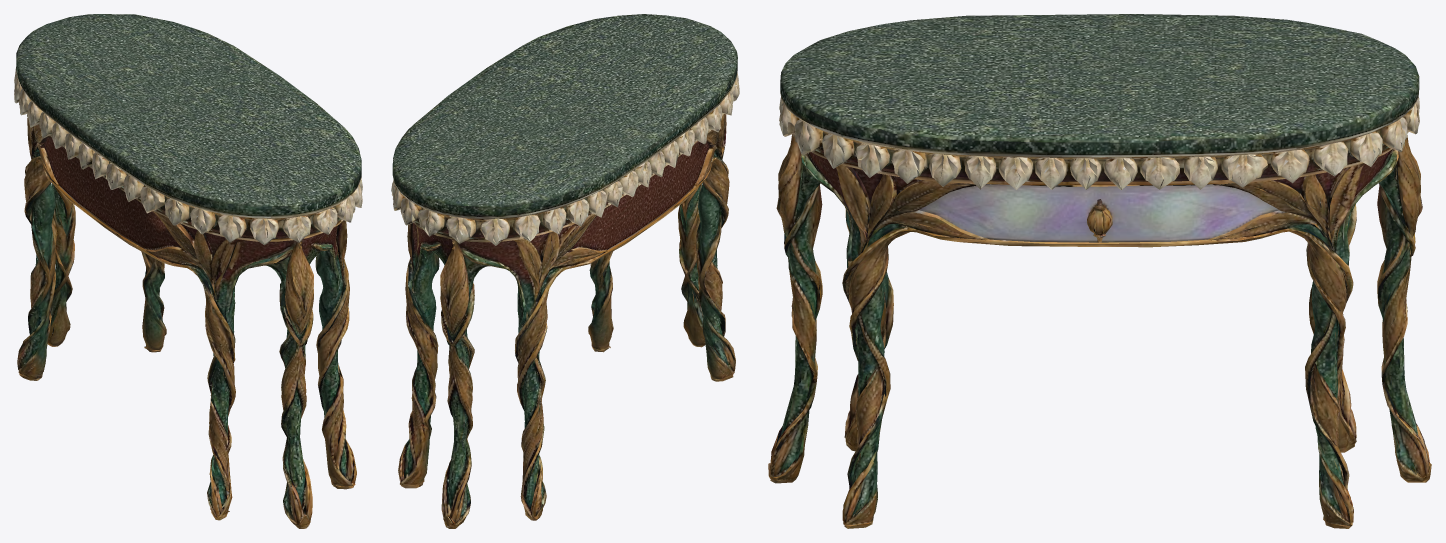
Rendered from ON-07_writing_desk_game.glb.
3 views of the same model, side by side, from view 1: azimuth 30°, elevation 25°; view 2: azimuth 150°, elevation 25°; view 3: azimuth 270°, elevation 25° (orthographic). The views are drawn at different scales.
Visible parts, largest first — view 1: ON-07_writing_desk; view 2: ON-07_writing_desk; view 3: ON-07_writing_desk.
Part boxes in pixels (x1=…): ON-07_writing_desk: x1=14, y1=14, x2=362, y2=528; ON-07_writing_desk: x1=391, y1=14, x2=739, y2=528; ON-07_writing_desk: x1=768, y1=14, x2=1431, y2=528.
Bounding box in the file's own units: 0.5122 × 0.7593 × 1.1.
Materials: 1 (1 with a texture image).
